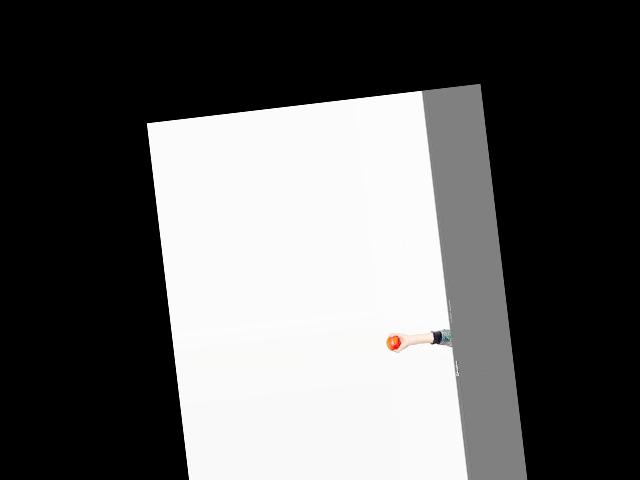tomato: (385, 334, 401, 351)
